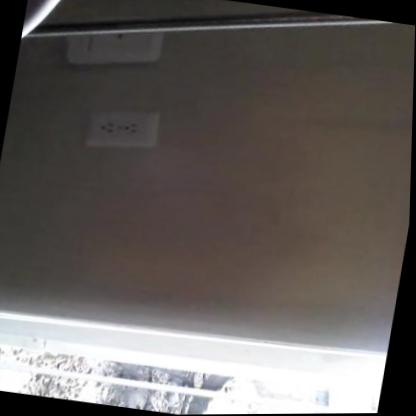OUTLET: (80, 99, 163, 155)
